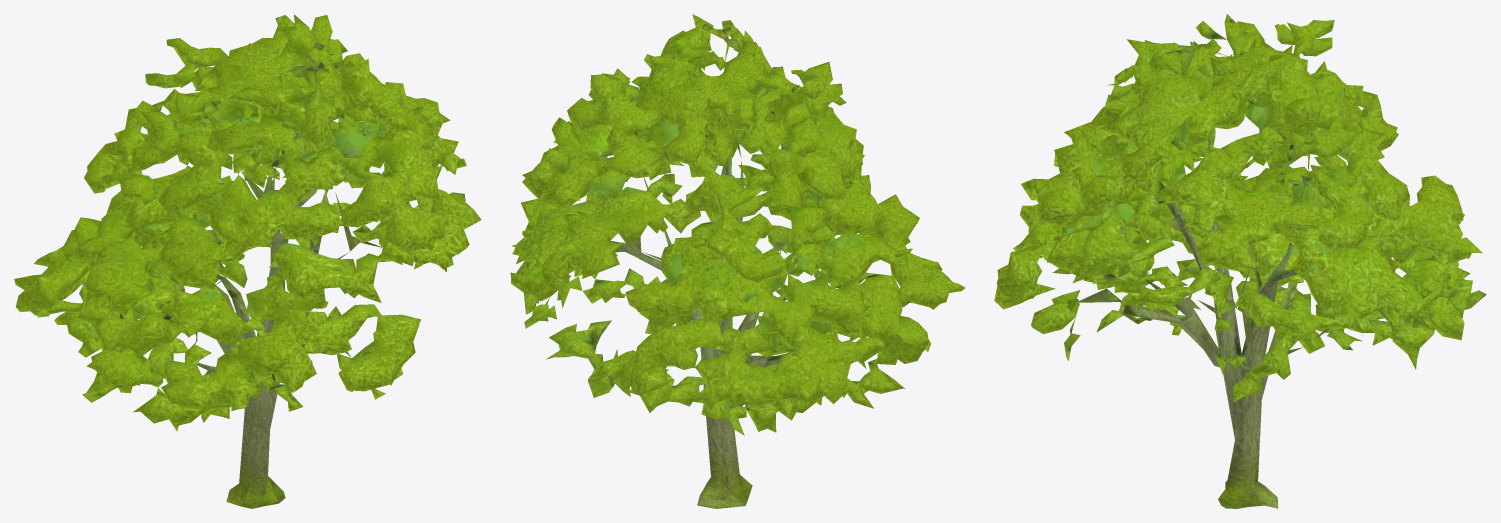
File: tree_1.glb
3 views of the same model, side by side, from view 1: azimuth 30°, elevation 25°; view 2: azimuth 150°, elevation 25°; view 3: azimuth 270°, elevation 25° (orthographic). The views are drawn at different scales.
Parts seen in each view (by area): view 1: Mesh_0; view 2: Mesh_0; view 3: Mesh_0.
Part boxes in pixels (box(x1,y1,x2,y2)): Mesh_0: box(14, 14, 481, 508); Mesh_0: box(510, 14, 965, 508); Mesh_0: box(994, 14, 1486, 508).
Bounding box in the file's own units: 1.66 × 1.86 × 1.74.
Materials: 1 (1 with a texture image).
